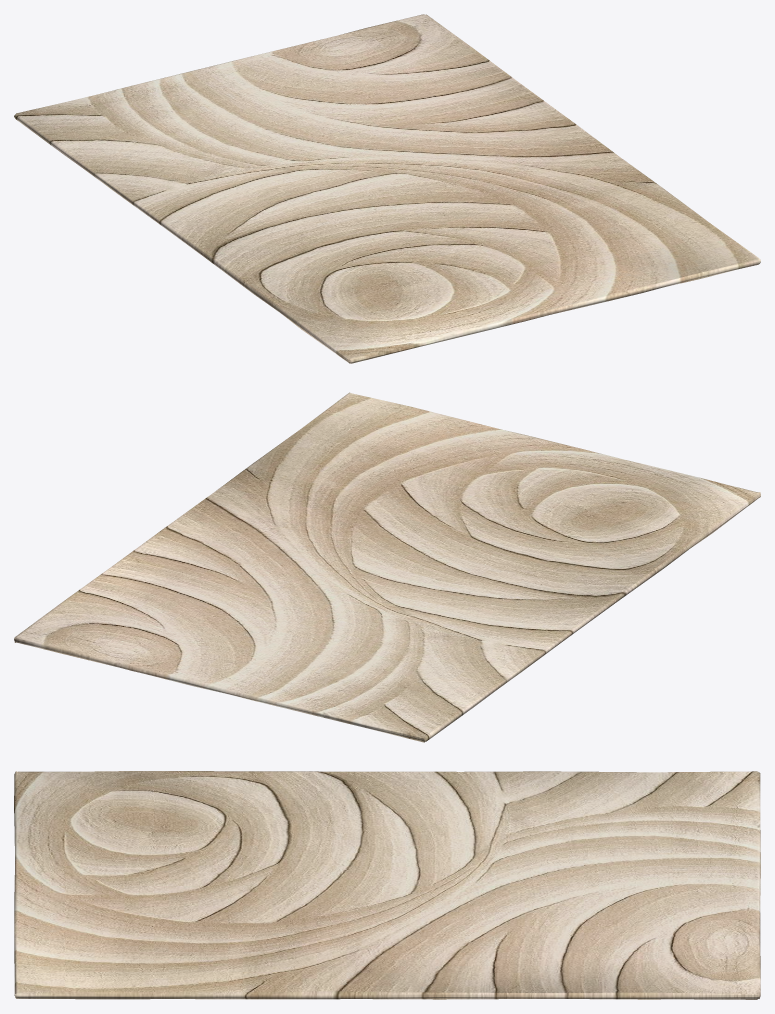
Rendered from jiaodian.FBX.
3 views of the same model, one above another, from view 1: azimuth 30°, elevation 25°; view 2: azimuth 150°, elevation 25°; view 3: azimuth 270°, elevation 25° (orthographic). The views are drawn at different scales.
Parts seen in each view (by area): view 1: Obj3d66-488943-6-251; view 2: Obj3d66-488943-6-251; view 3: Obj3d66-488943-6-251.
Part boxes in pixels (x1=…): Obj3d66-488943-6-251: x1=14, y1=14, x2=760, y2=363; Obj3d66-488943-6-251: x1=14, y1=392, x2=760, y2=742; Obj3d66-488943-6-251: x1=14, y1=771, x2=760, y2=999.
Bounding box in the file's own units: 1700 × 27.98 × 2404.
Materials: 1 (1 with a texture image).
